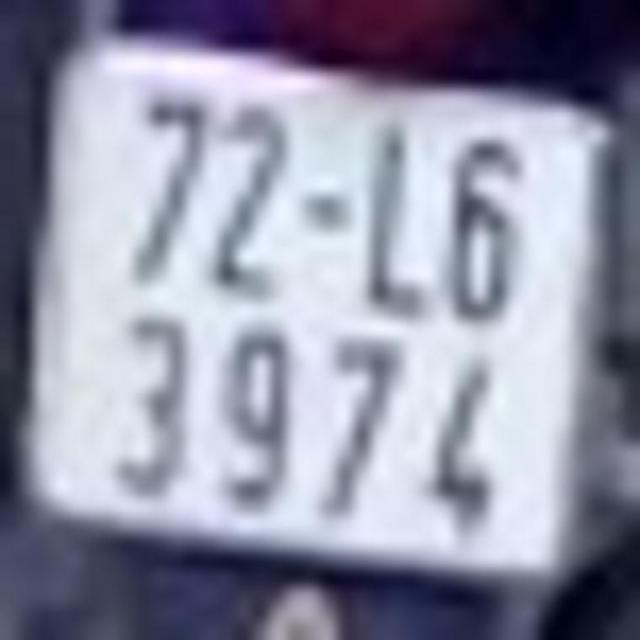2: (210, 92, 288, 290)
3: (124, 308, 192, 498)
4: (430, 350, 500, 548)
6: (446, 122, 526, 325)
7: (128, 88, 204, 292), (322, 326, 401, 516)
9: (218, 315, 292, 512)
L: (356, 114, 439, 314)
